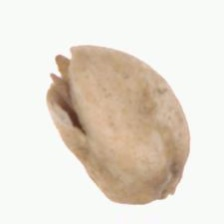L1: (45, 45, 80, 122), (160, 159, 184, 202)
L2: (47, 45, 190, 206)
